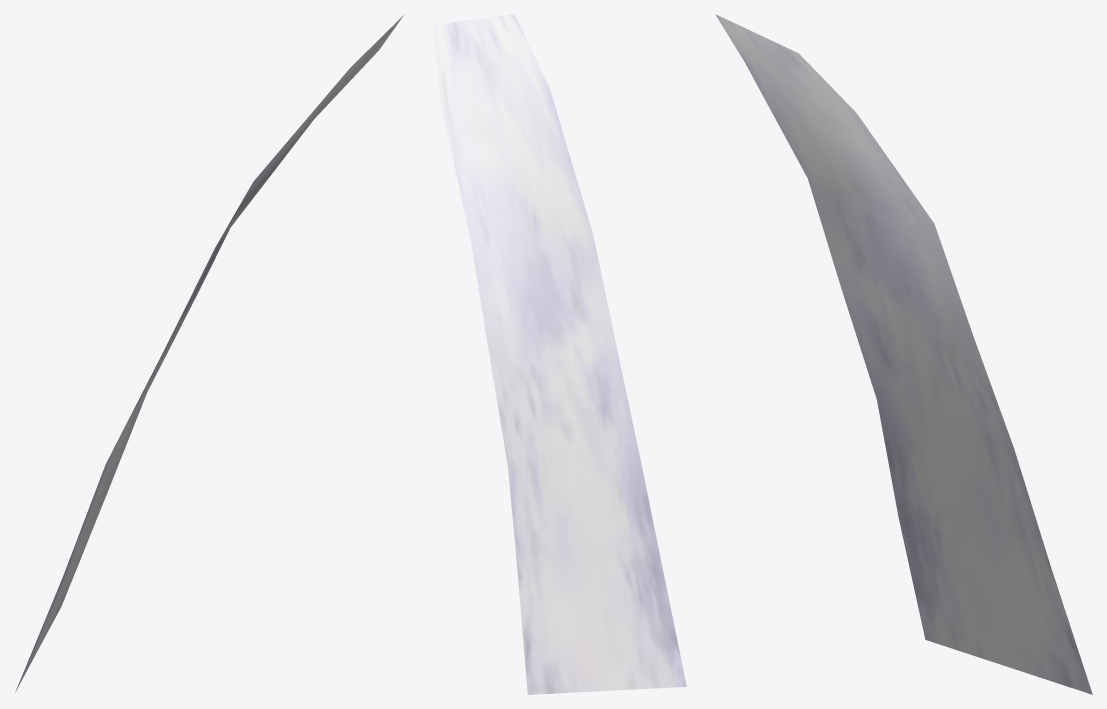
File: OM_p_a_river_08f_00_17_0_12.fbx
3 renders of one model, left to right at view 1: azimuth 30°, elevation 25°; view 2: azimuth 150°, elevation 25°; view 3: azimuth 270°, elevation 25°, orthographic. The views are drawn at different scales.
Parts seen in each view (by area): view 1: OM_p_a_river_08f_00_17_0_12; view 2: OM_p_a_river_08f_00_17_0_12; view 3: OM_p_a_river_08f_00_17_0_12.
Part boxes in pixels (box(x1,y1,x2,y2)): OM_p_a_river_08f_00_17_0_12: box(15, 14, 404, 692); OM_p_a_river_08f_00_17_0_12: box(433, 14, 686, 694); OM_p_a_river_08f_00_17_0_12: box(715, 14, 1092, 694).
Bounding box in the file's own units: 5.5 × 9.86 × 4.24.
